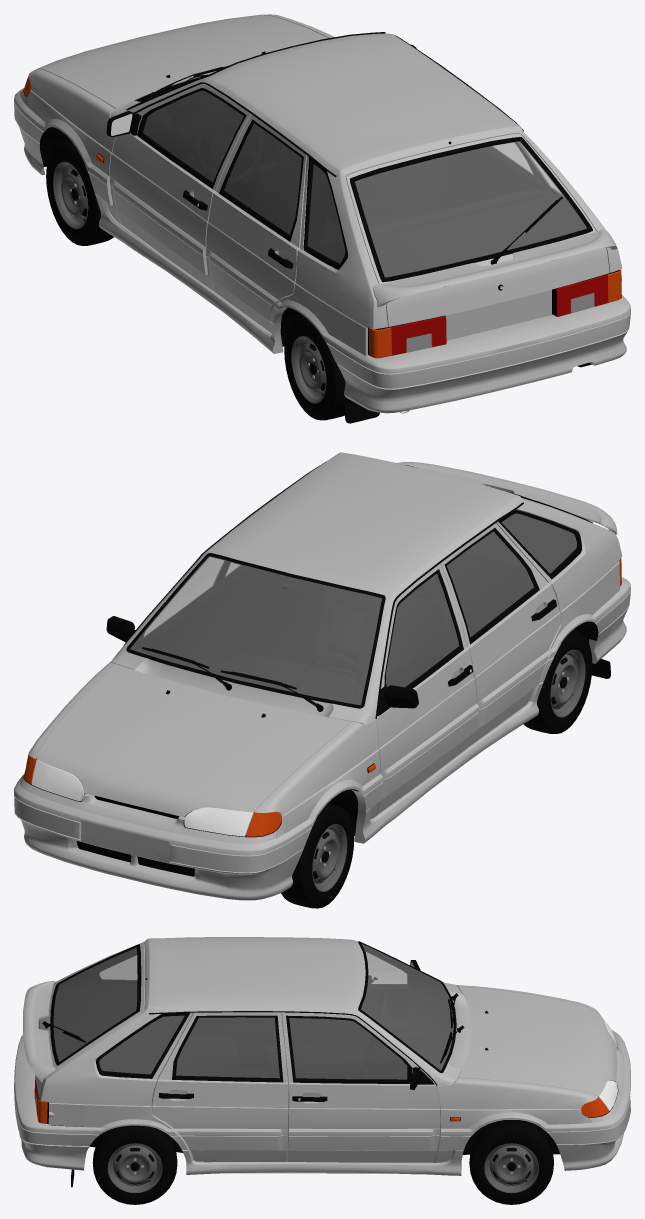
3 renders of one model, top to bottom at view 1: azimuth 30°, elevation 25°; view 2: azimuth 150°, elevation 25°; view 3: azimuth 270°, elevation 25°, orthographic. The views are drawn at different scales.
Visible parts, largest first — view 1: body, focus int., bumpers, moldings, headlight, wheel_RL, wheel_FL, spoiler, thresholds, mirror, wipper; view 2: body, focus int., bumpers, moldings, wheel_FL, wheel_RL, headlight, thresholds, spoiler, mirror, wipper; view 3: body, focus int., bumpers, moldings, wheel_FR, wheel_RR, thresholds, spoiler, headlight, wipper, mirror.
Boxes of the visible parts, x1=… form: body: x1=20, y1=14, x2=622, y2=355; focus int.: x1=143, y1=90, x2=586, y2=277; bumpers: x1=14, y1=88, x2=630, y2=413; moldings: x1=83, y1=161, x2=278, y2=319; headlight: x1=23, y1=76, x2=621, y2=358; wheel_RL: x1=284, y1=316, x2=353, y2=420; wheel_FL: x1=46, y1=140, x2=113, y2=245; spoiler: x1=373, y1=229, x2=617, y2=306; thresholds: x1=95, y1=193, x2=286, y2=353; mirror: x1=106, y1=44, x2=416, y2=137; wipper: x1=147, y1=66, x2=562, y2=264; body: x1=20, y1=452, x2=622, y2=844; focus int.: x1=131, y1=513, x2=576, y2=704; bumpers: x1=14, y1=577, x2=630, y2=900; moldings: x1=352, y1=650, x2=549, y2=811; wheel_FL: x1=281, y1=803, x2=354, y2=908; wheel_RL: x1=523, y1=630, x2=592, y2=733; headlight: x1=23, y1=558, x2=621, y2=836; thresholds: x1=354, y1=644, x2=560, y2=843; spoiler: x1=397, y1=462, x2=617, y2=534; mirror: x1=106, y1=616, x2=418, y2=716; wipper: x1=142, y1=464, x2=410, y2=711; body: x1=35, y1=937, x2=624, y2=1163; focus int.: x1=54, y1=945, x2=453, y2=1079; bumpers: x1=14, y1=1030, x2=630, y2=1170; moldings: x1=174, y1=1128, x2=477, y2=1150; wheel_FR: x1=469, y1=1120, x2=553, y2=1204; wheel_RR: x1=92, y1=1125, x2=177, y2=1204; thresholds: x1=159, y1=1128, x2=463, y2=1175; spoiler: x1=23, y1=980, x2=55, y2=1082; headlight: x1=34, y1=1018, x2=618, y2=1123; wipper: x1=42, y1=993, x2=464, y2=1063; mirror: x1=410, y1=960, x2=434, y2=1089.
Size of the model in its own units: 1.92 by 4.18 by 1.42.
